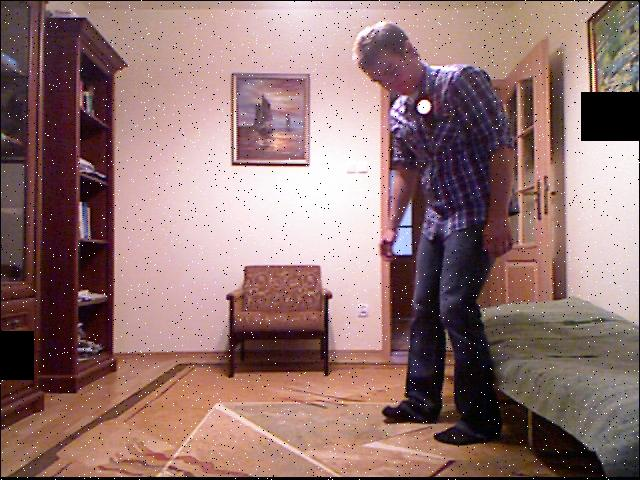bending: (354, 13, 506, 431)
